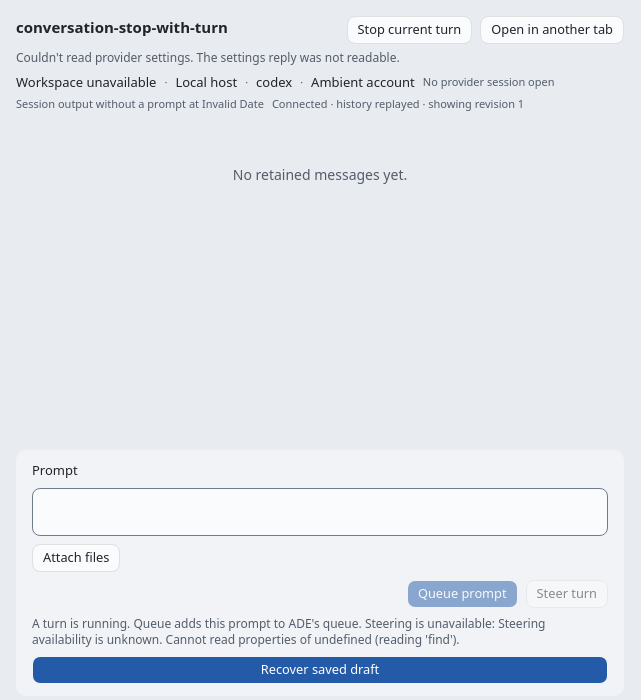
Stop forwards the live turn identity and shows confirmation only from native terminal evidence
What coordinates should you click on to do the following:
click the button "Stop current turn"
I would click on:
 (409, 30)
Its box is [346,16,472,44].
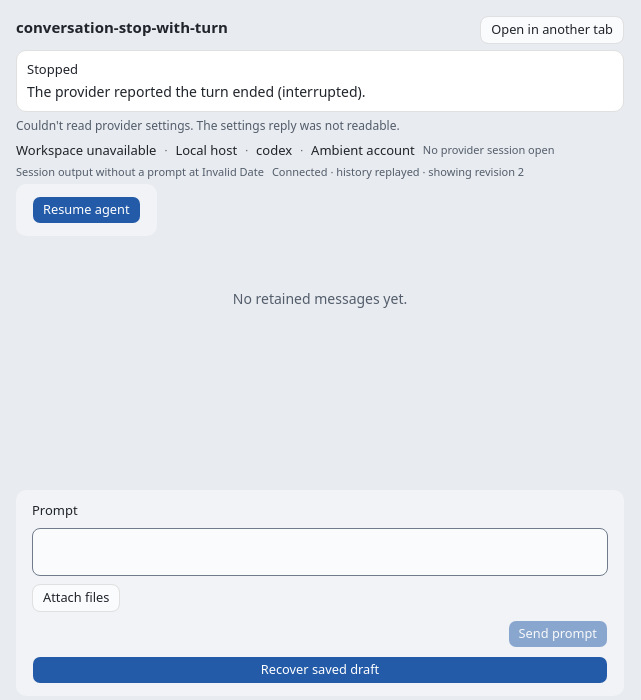
Now the message named "Stop status" shows "The provider reported the turn ended (interrupted).", box [27,82,366,101]
